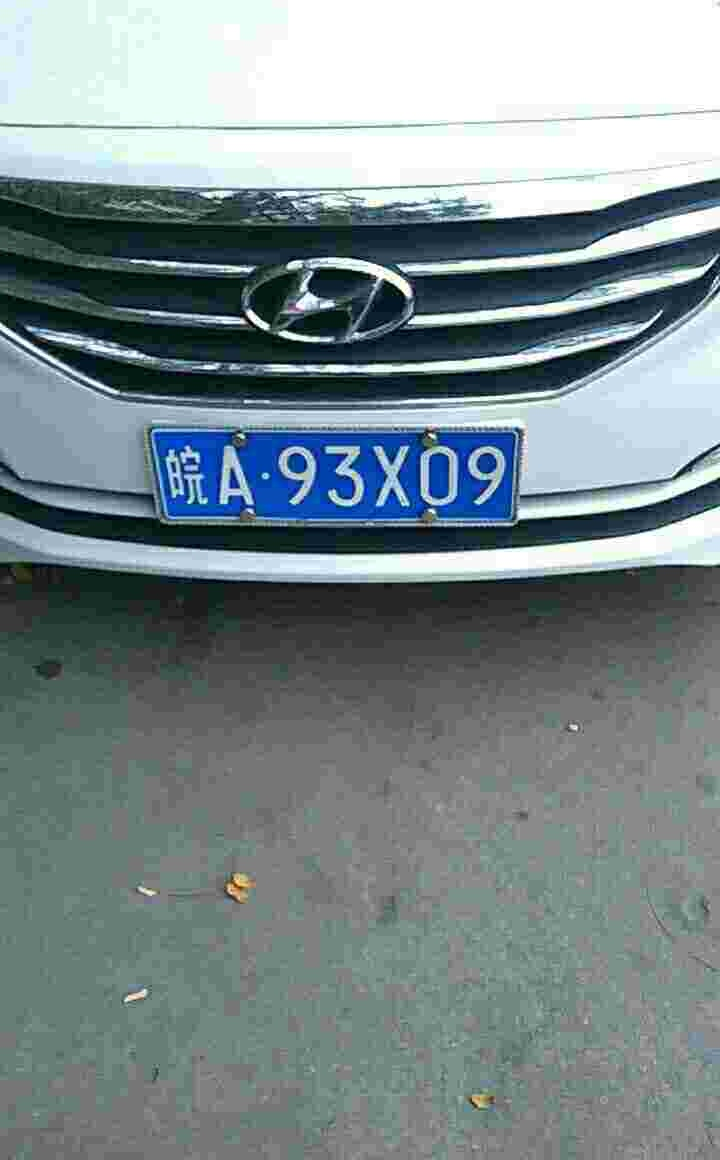license_plate: (148, 429, 530, 529)
